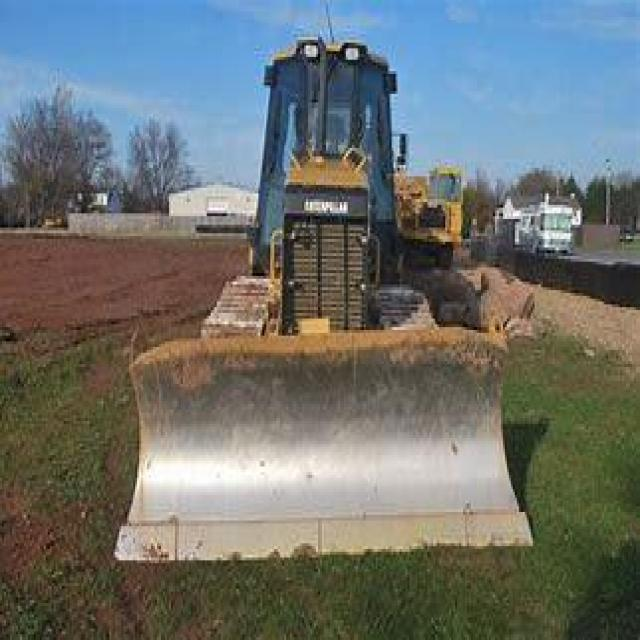Bulldozer: (117, 23, 545, 560)
